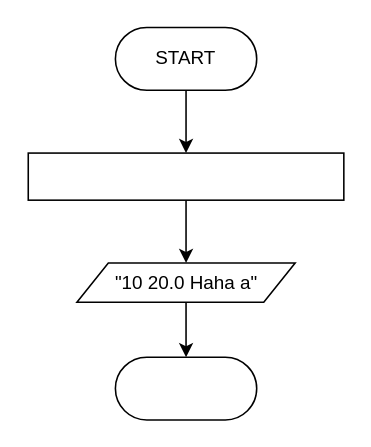
This 371x447 diagram has some shape labels left out. The centre of each missing label's shape, as x and y in pixels:
a = 10, b = 20, c = "HaHa", d = 'a': (185,176)
END: (185,388)
